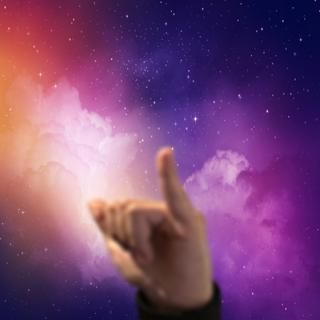HAVE: (75, 136, 223, 302)
